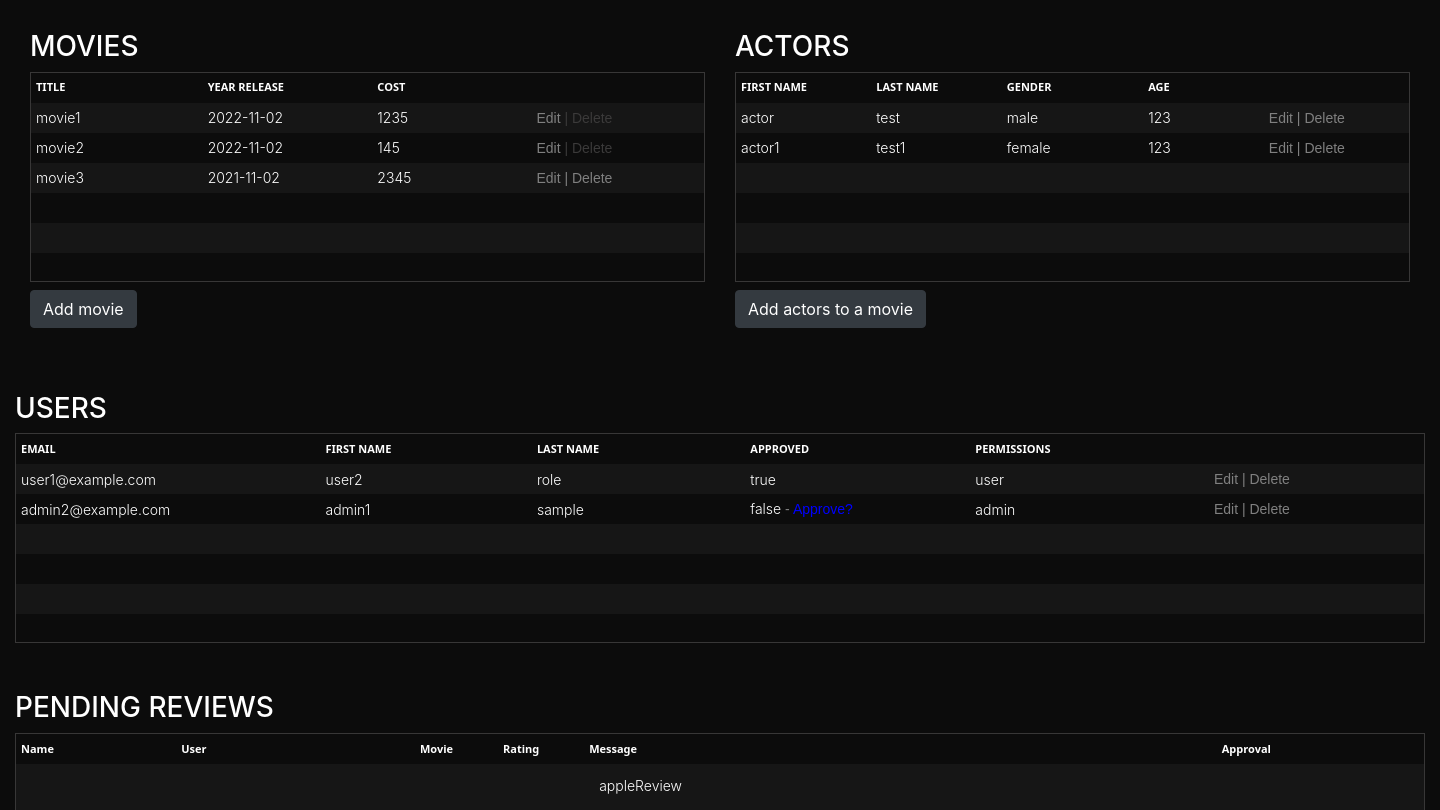
Test: <Controls/> › Actors table › Should show edit actor modal
Click the 2nd button "Edit": (1281,118) left=1269, top=108, right=1293, bottom=129
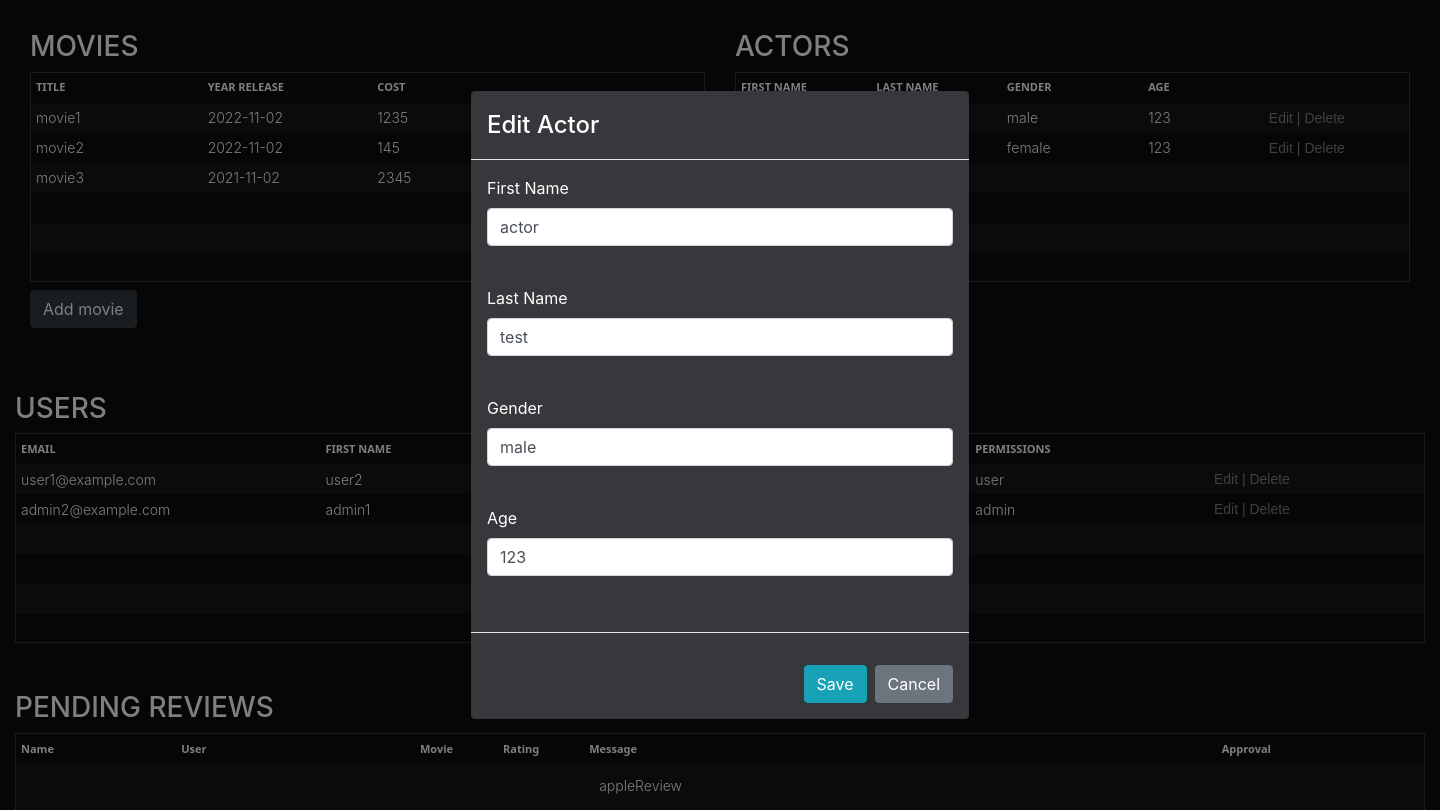
Expected: the text "Edit Actor" is shown, left=487, top=107, right=599, bottom=143
